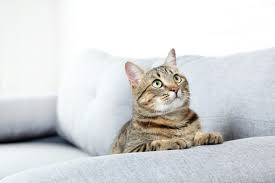cat: (121, 47, 196, 115)
